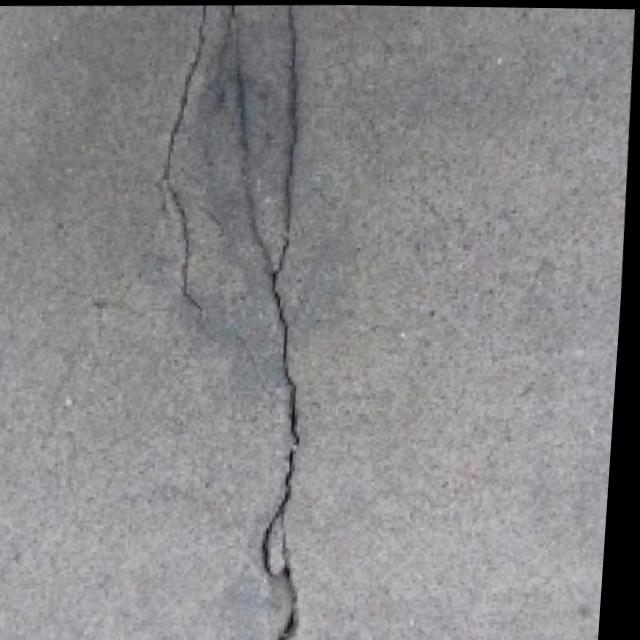Crack: (126, 2, 367, 640)
